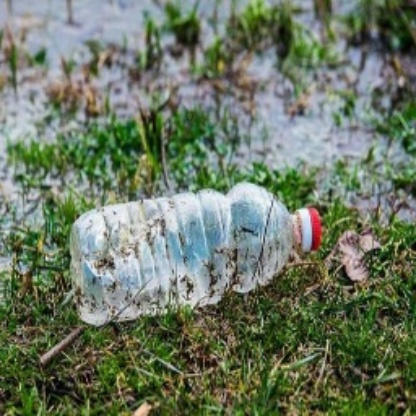bottle: (70, 177, 323, 331)
